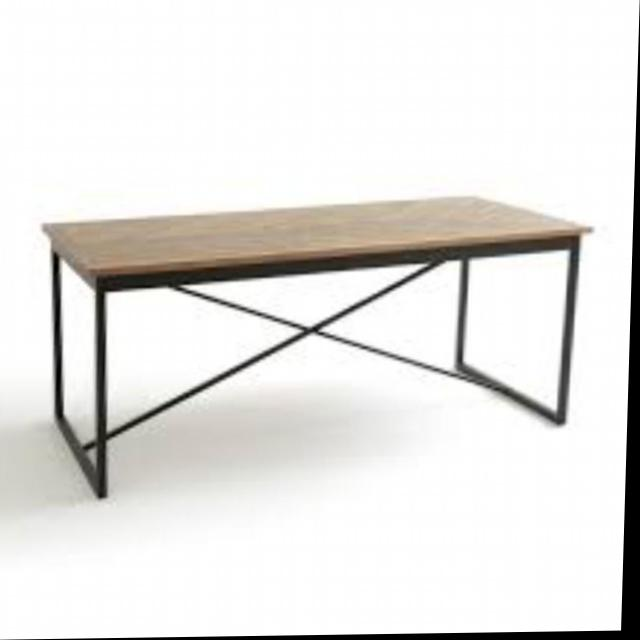Table: (28, 181, 606, 507)
